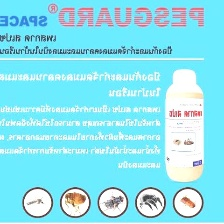insecticide: (163, 66, 207, 184)
